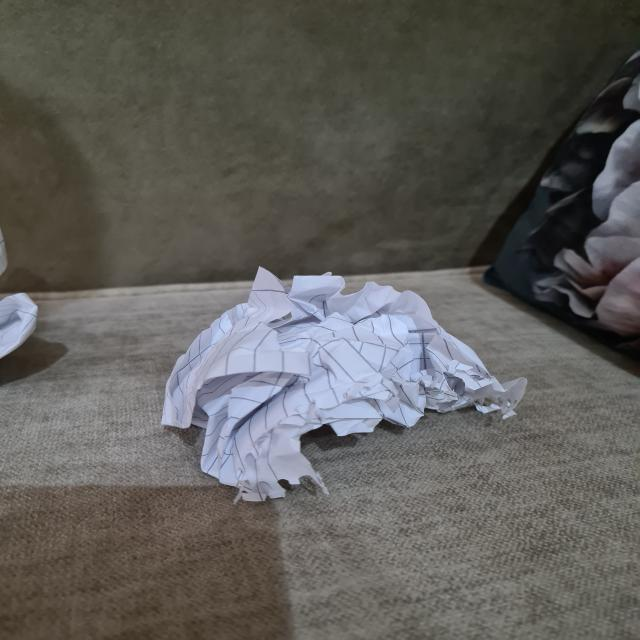Paper: (161, 263, 534, 499)
